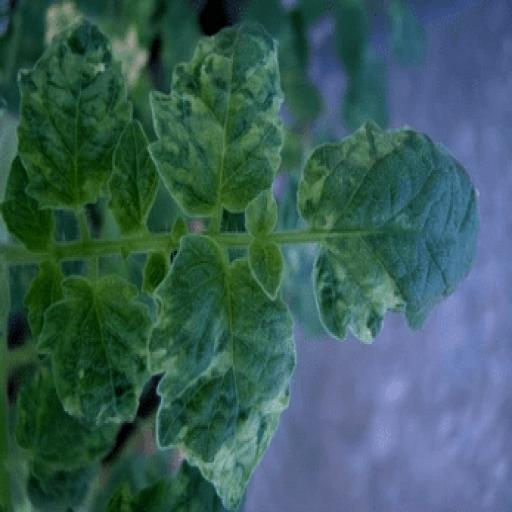disease_tomato: (296, 114, 480, 348), (147, 230, 299, 512), (148, 14, 288, 218), (12, 13, 134, 212), (34, 264, 154, 432)
